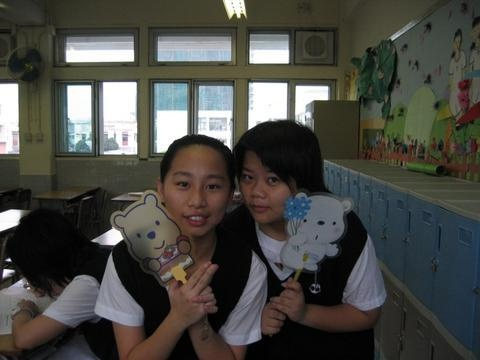head: (236, 119, 323, 227), (160, 131, 233, 241)
person: (224, 114, 387, 360), (100, 133, 263, 356), (1, 206, 120, 357)
